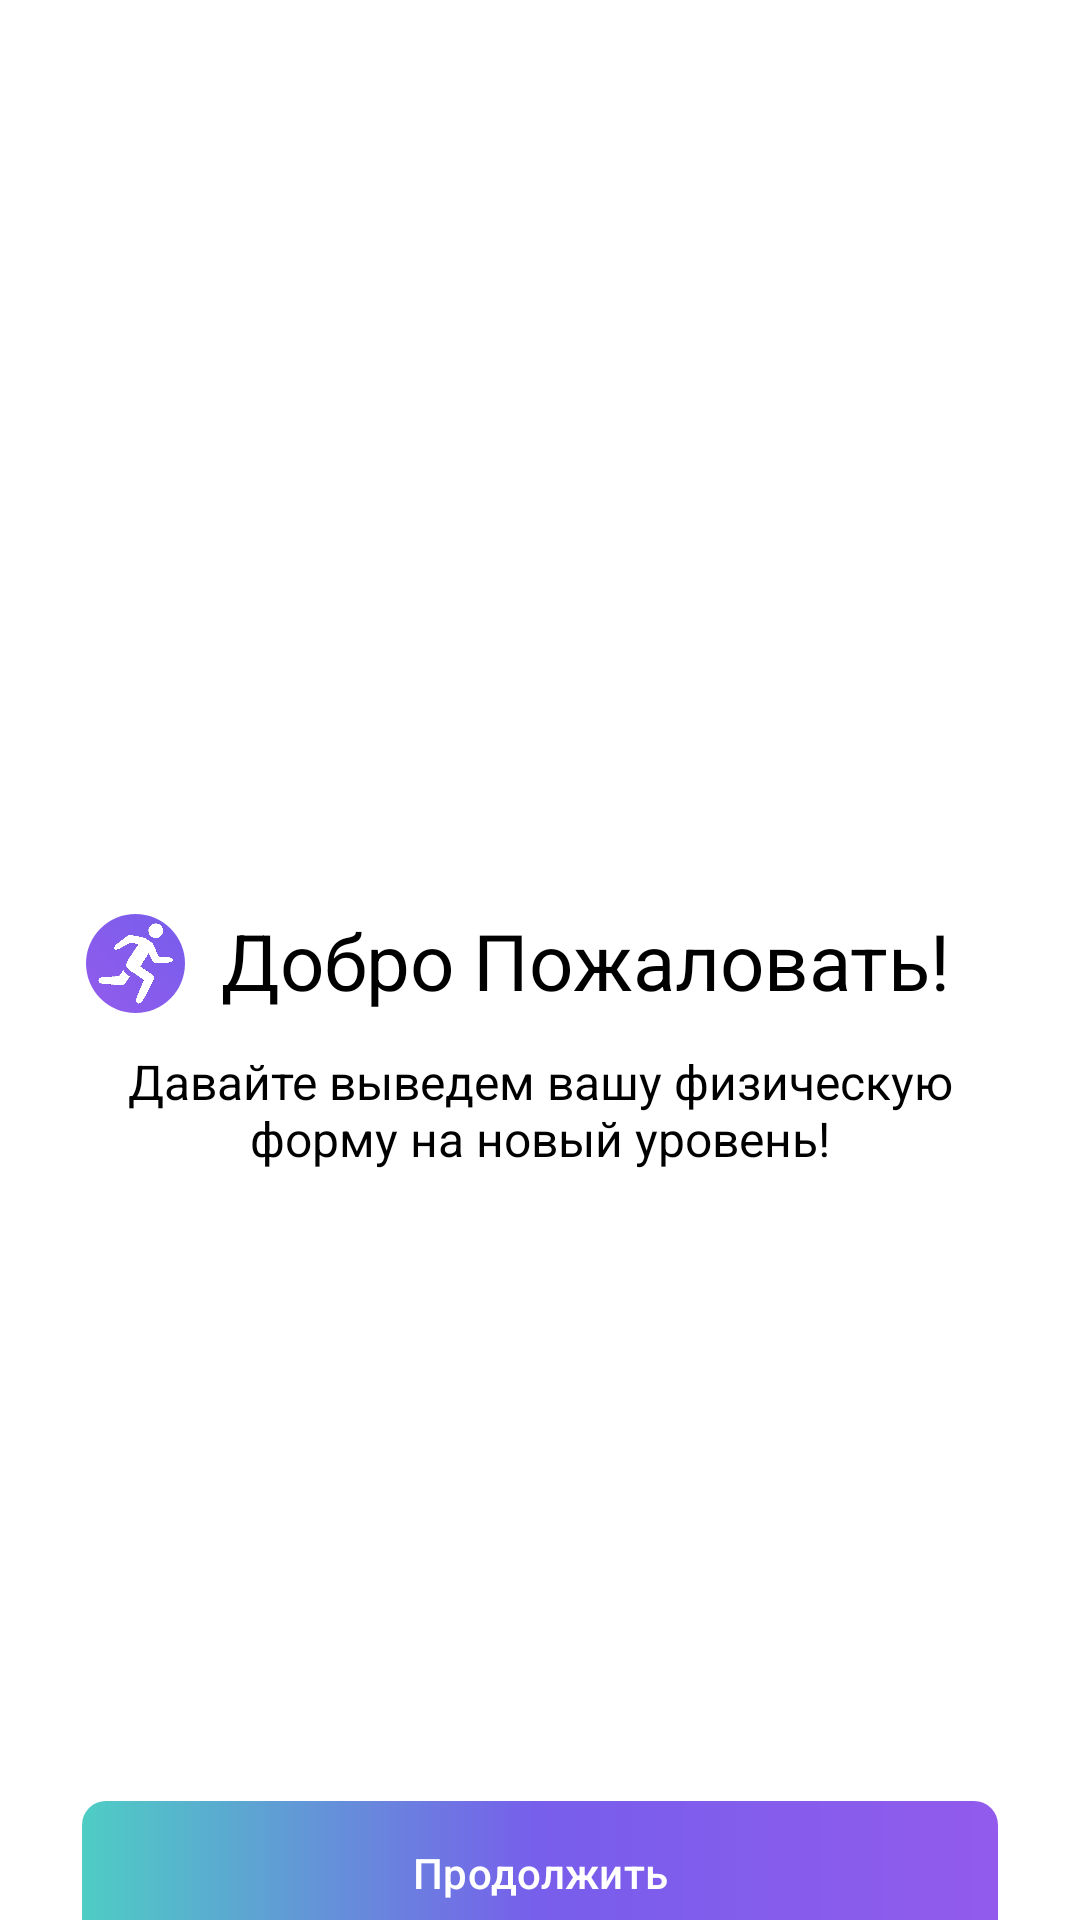

Icon click points for this 1080 x 1920 phone screenshot, format point (x, y):
runnuig man: point (135, 963)
